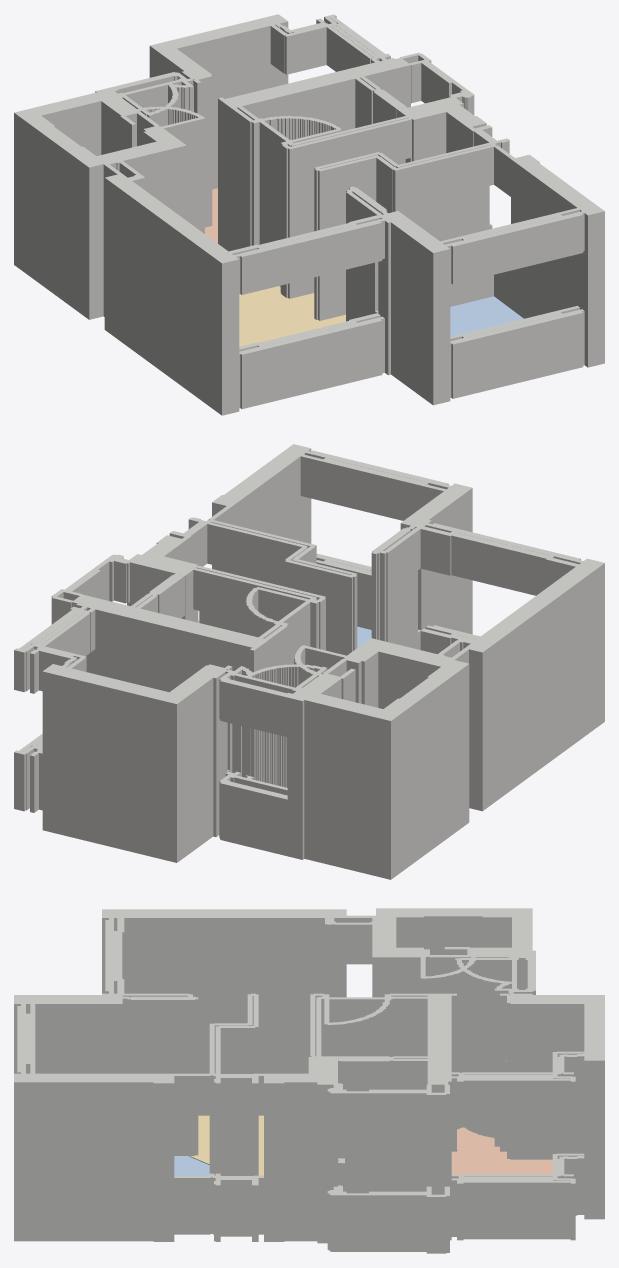
The picture shows the model from 3 angles, top to bottom: view 1: azimuth 30°, elevation 25°; view 2: azimuth 150°, elevation 25°; view 3: azimuth 270°, elevation 25°; orthographic projection. The views are drawn at different scales.
Parts seen in each view (by area): view 1: walls, room:living:3, room:bedroom:5; view 2: walls; view 3: walls, room:kitchen:0, room:living:3, room:bedroom:5.
Part boxes in pixels (x1,y1,x2,y2): walls: (14,14,604,415); room:living:3: (239,286,345,346); room:bedroom:5: (450,296,523,336); walls: (14,444,604,879); walls: (14,908,604,1253); room:kitchen:0: (451,1127,552,1174); room:living:3: (189,1115,263,1175); room:bedroom:5: (174,1156,209,1175).
Bounding box in the file's own units: 7.05 × 2.8 × 9.45.
